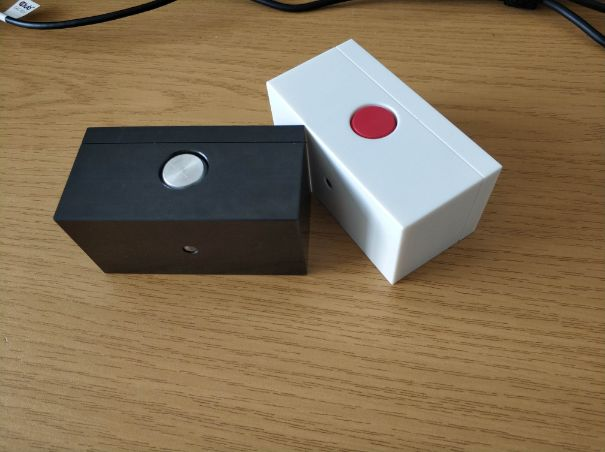black+black+silver: (50, 122, 315, 279)
white+white+red: (265, 37, 505, 289)
